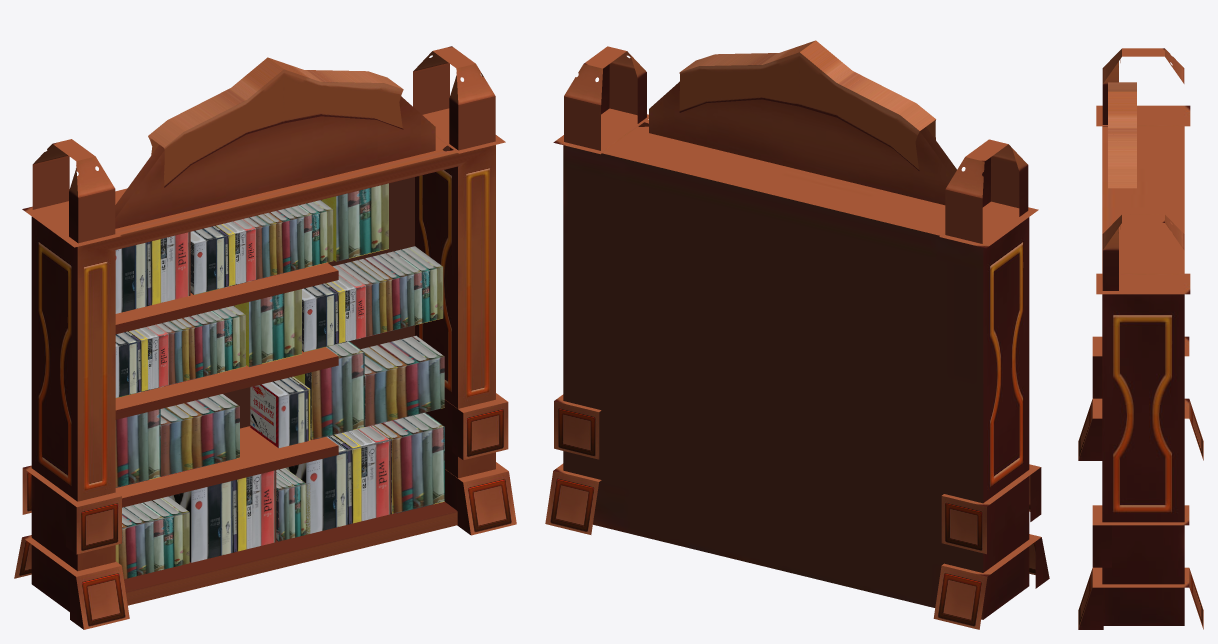
File: bookShelf3.fbx
The picture shows the model from 3 angles, left to right: view 1: azimuth 30°, elevation 25°; view 2: azimuth 150°, elevation 25°; view 3: azimuth 270°, elevation 25°; orthographic projection. The views are drawn at different scales.
Visible parts, largest first — view 1: bookShelf3; view 2: bookShelf3; view 3: bookShelf3.
Boxes of the visible parts, <box> form: bookShelf3: <box>14,46,516,629</box>; bookShelf3: <box>545,40,1049,629</box>; bookShelf3: <box>1078,48,1203,629</box>.
Size of the model in its own units: 20.24 by 22.16 by 5.66.
